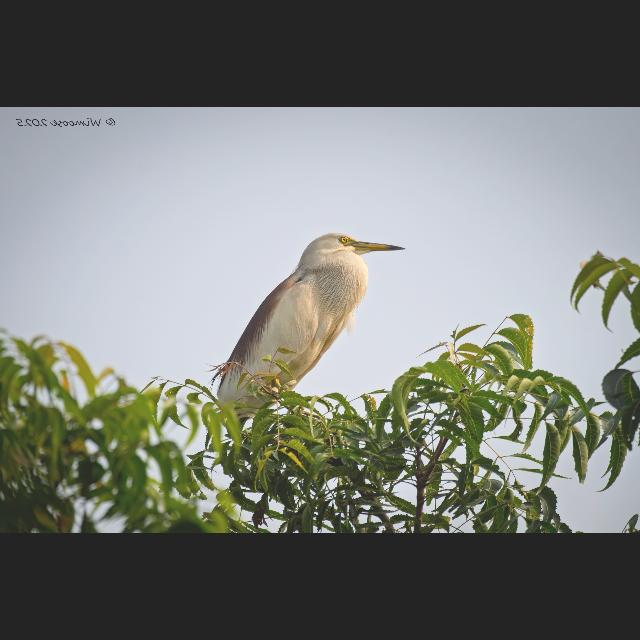heron: (192, 218, 408, 440)
